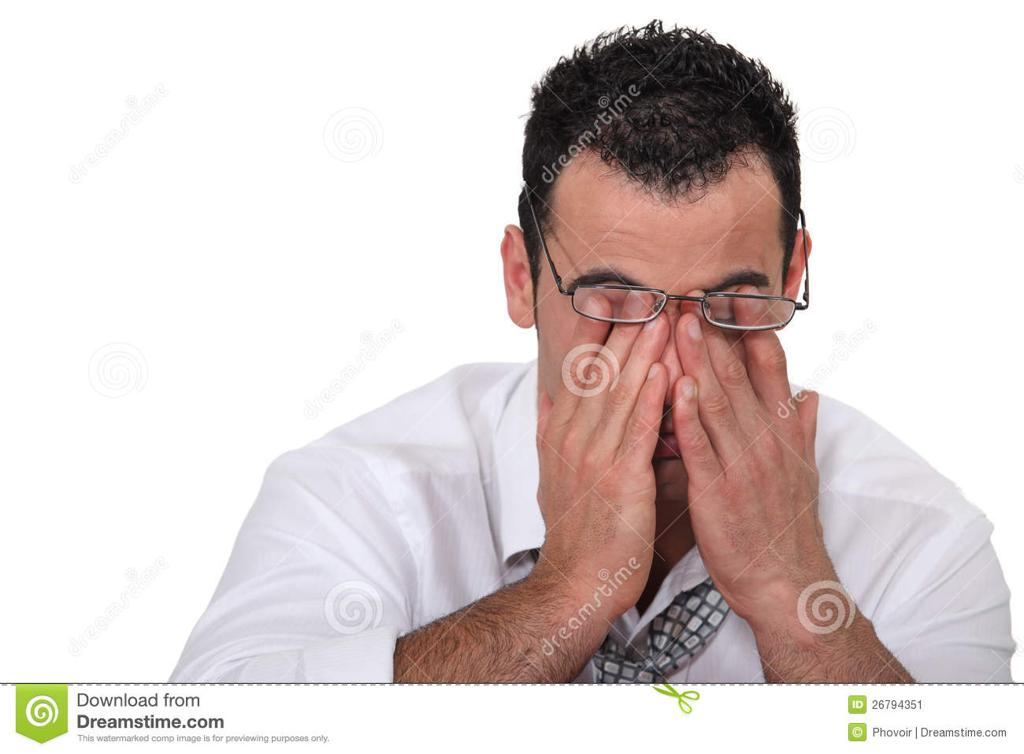face: (552, 178, 786, 488)
